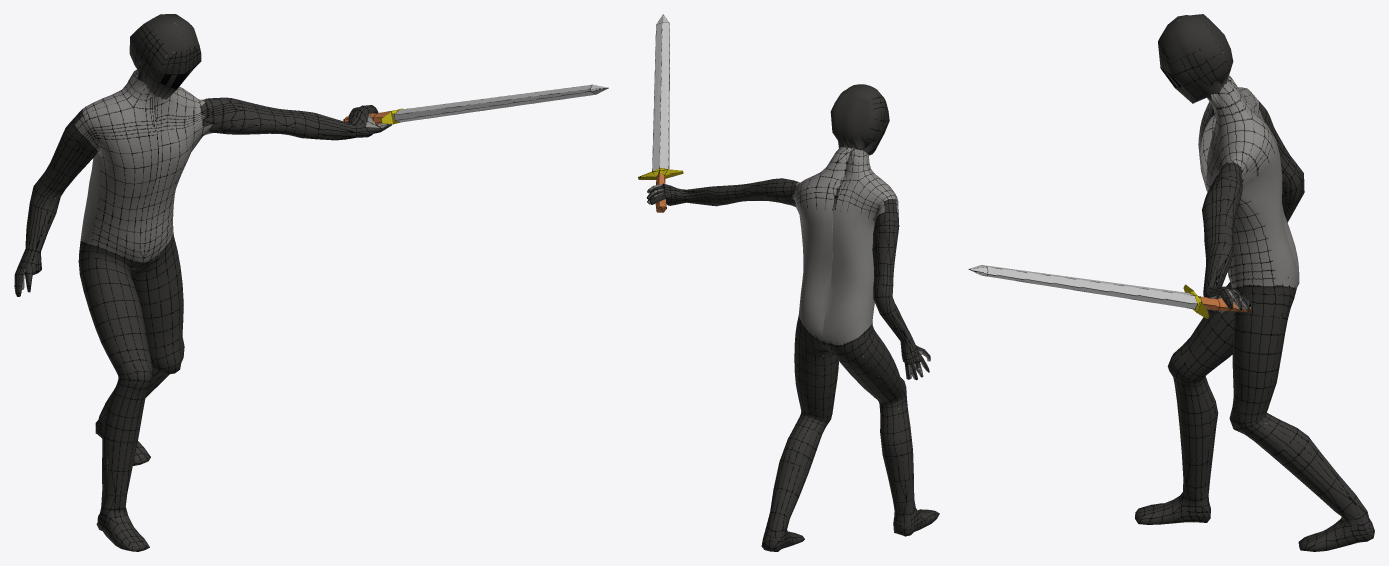
Rendered from player_attack_after.obj.
3 views of the same model, side by side, from view 1: azimuth 30°, elevation 25°; view 2: azimuth 150°, elevation 25°; view 3: azimuth 270°, elevation 25° (orthographic). The views are drawn at different scales.
Parts seen in each view (by area): view 1: Cube_Cube.001; view 2: Cube_Cube.001; view 3: Cube_Cube.001.
Boxes of the visible parts, x1,y1,x2,y2 form: Cube_Cube.001: (14,14,608,551); Cube_Cube.001: (638,14,939,551); Cube_Cube.001: (968,14,1374,551).
Size of the model in its own units: 4.2 by 4.48 by 3.11.
Materials: 1 (1 with a texture image).
